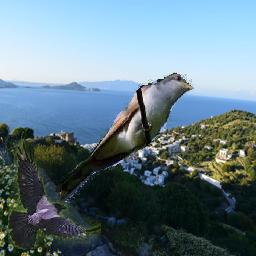Crow: (9, 141, 102, 250)
Cuckoo: (54, 73, 194, 204)
